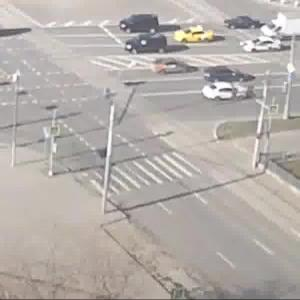car: (202, 80, 253, 104), (116, 13, 166, 34), (125, 30, 165, 55), (242, 35, 286, 55), (210, 66, 252, 86), (261, 17, 300, 38), (174, 28, 223, 44), (150, 55, 187, 76), (225, 18, 259, 30)
